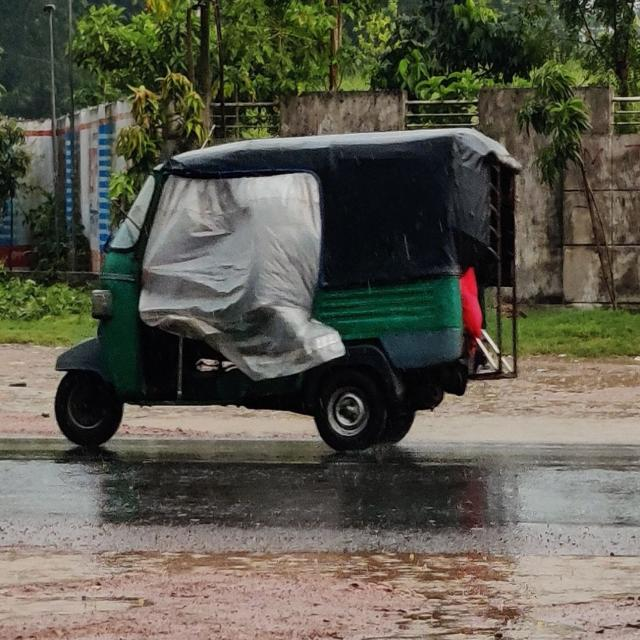CNG: (33, 107, 550, 484)
